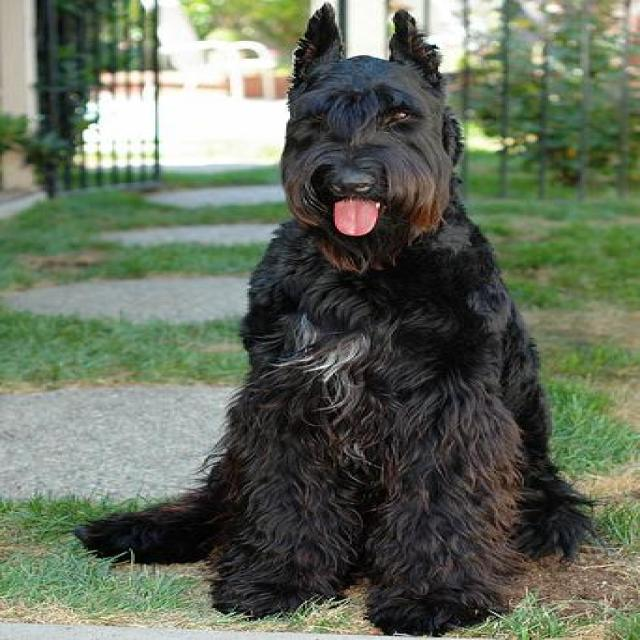happy: (220, 3, 532, 331)
